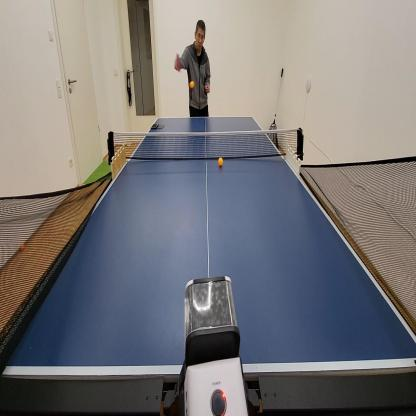Ball: (189, 80, 195, 90), (218, 157, 223, 167), (20, 242, 24, 251)
